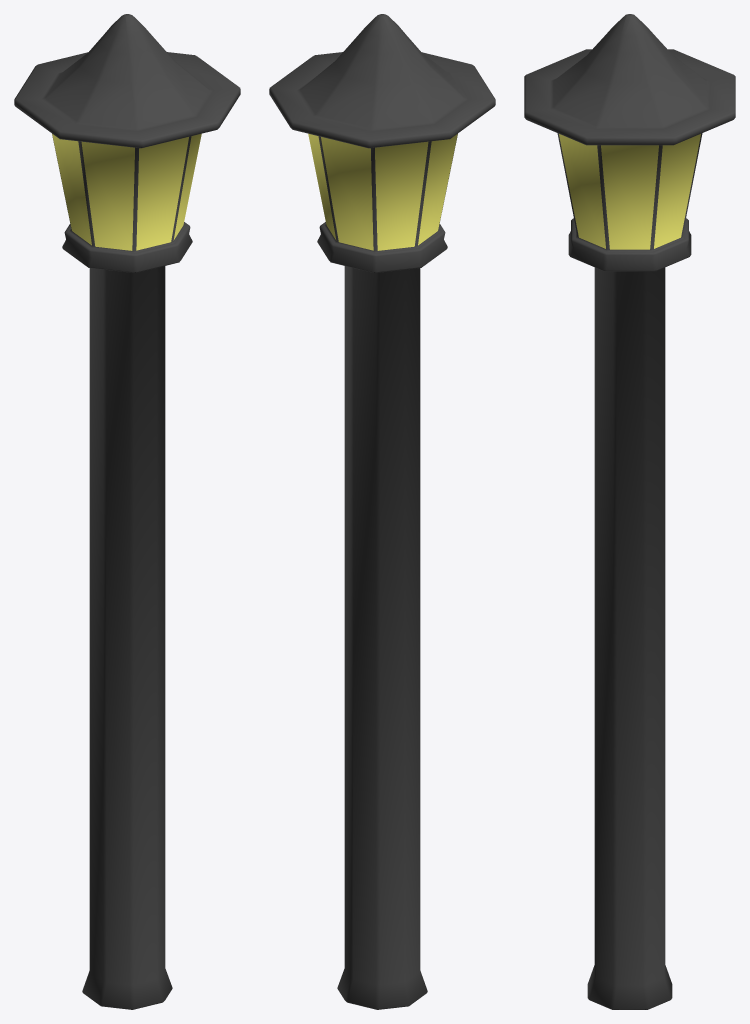
The model's file is street_lamp.fbx.
The picture shows the model from 3 angles, left to right: view 1: azimuth 30°, elevation 25°; view 2: azimuth 150°, elevation 25°; view 3: azimuth 270°, elevation 25°; orthographic projection.
Parts seen in each view (by area): view 1: Cube.001; view 2: Cube.001; view 3: Cube.001.
Part boxes in pixels (x1,y1,x2,y2): Cube.001: [14, 14, 240, 1009]; Cube.001: [269, 14, 495, 1009]; Cube.001: [524, 14, 735, 1009].
Bounding box in the file's own units: 58.07 × 296 × 58.07.
